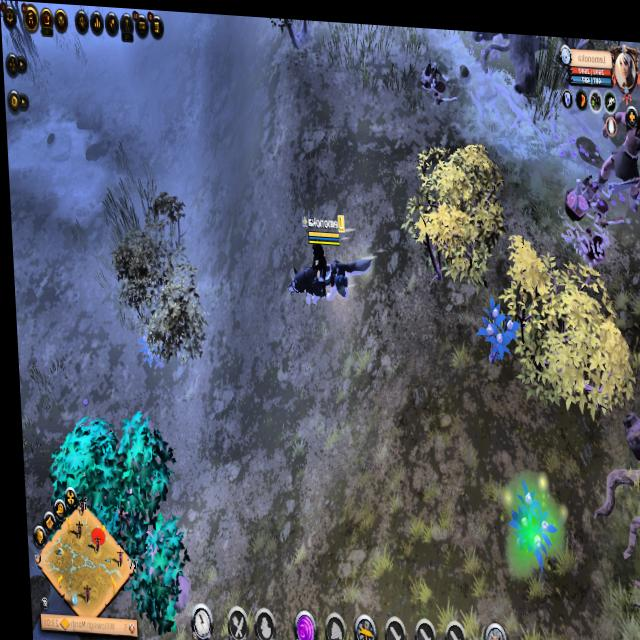fiber tier 4: (501, 475, 553, 565), (473, 289, 514, 359)
